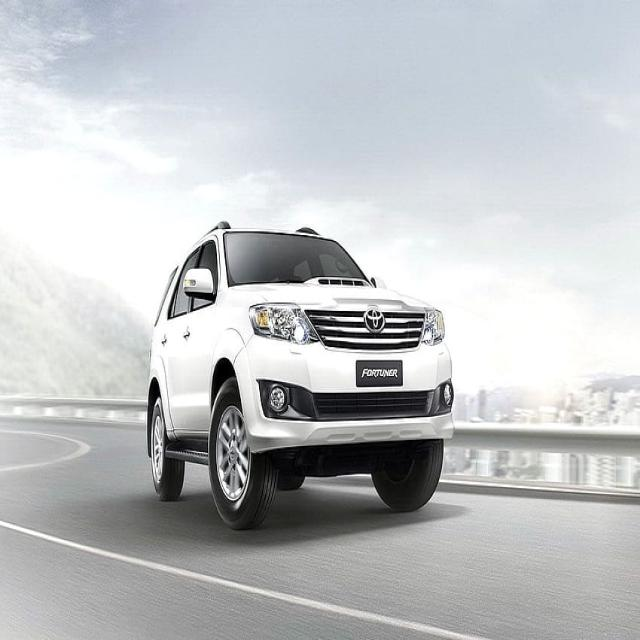light_vehicle: (146, 222, 456, 532)
